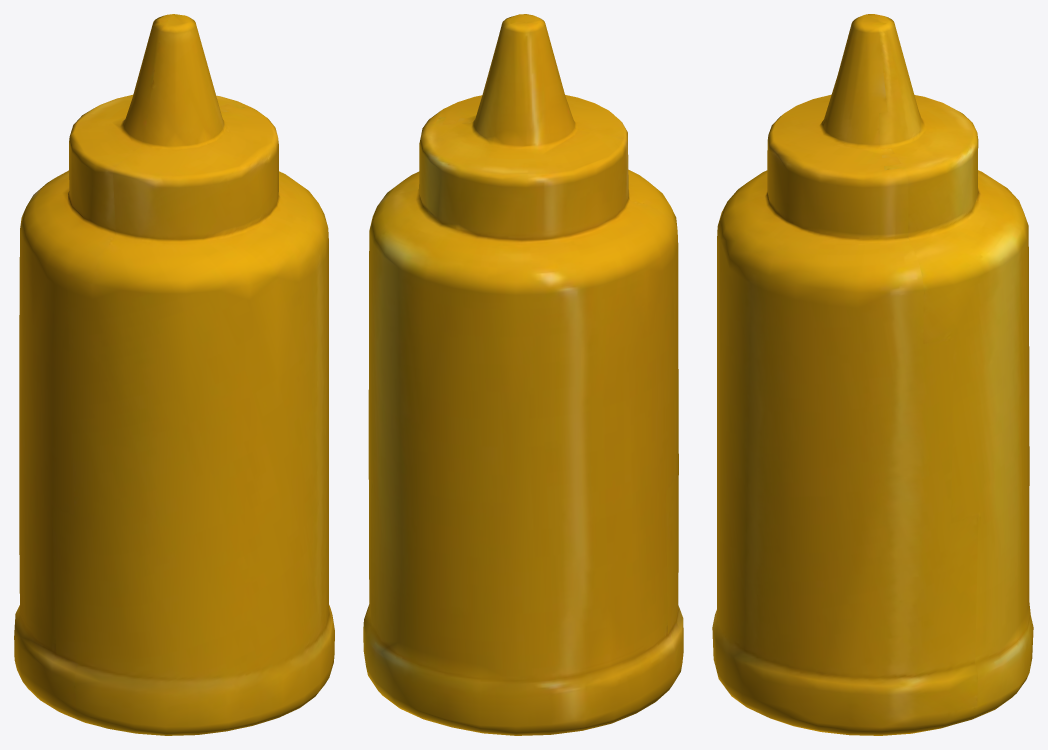
Rendered from frank-mustard-grenade.glb.
3 renders of one model, left to right at view 1: azimuth 30°, elevation 25°; view 2: azimuth 150°, elevation 25°; view 3: azimuth 270°, elevation 25°, orthographic.
Visible parts, largest first — view 1: model; view 2: model; view 3: model.
Boxes of the visible parts, x1=… form: model: x1=14, y1=14, x2=334, y2=735; model: x1=363, y1=14, x2=683, y2=735; model: x1=712, y1=14, x2=1033, y2=735.
Size of the model in its own units: 0.4432 by 0.9998 by 0.4448.
1 material, 1 textured.
